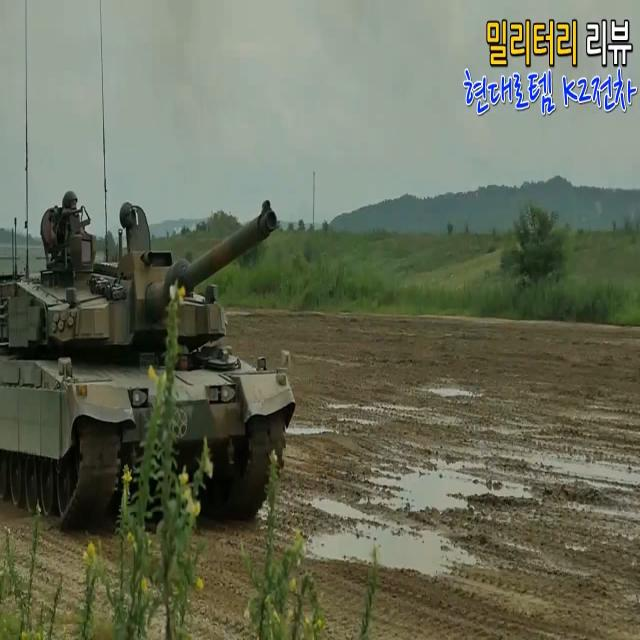korea tank: (0, 196, 296, 527)
